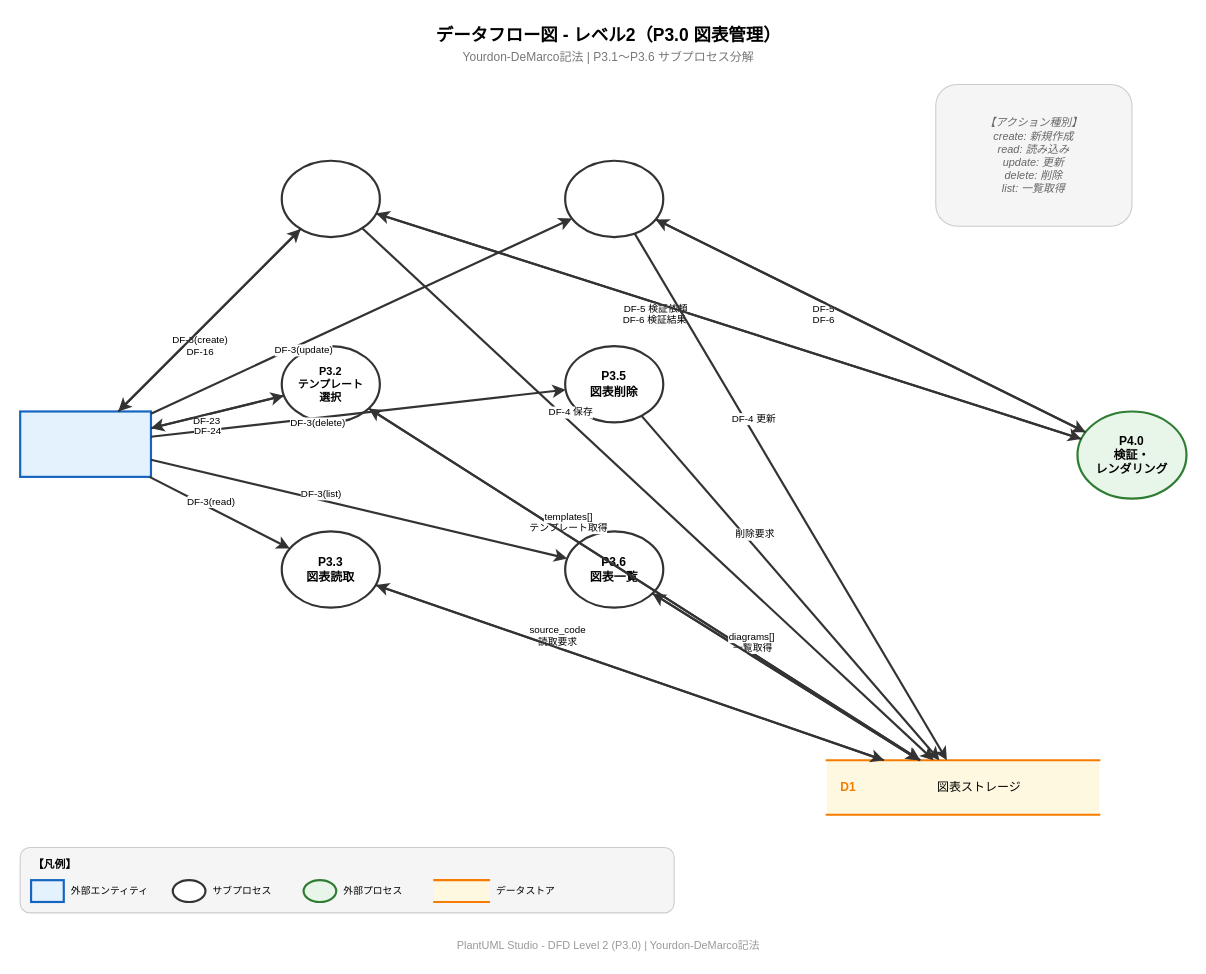
Some shapes in this 1206 by 974 pixel diagram are drawn without their labels. The centre of each missing label's shape, as x and y in pixels:
P3.1 図表作成: point (330, 198)
P3.4 図表更新: point (614, 198)
エンドユーザー: point (85, 443)
